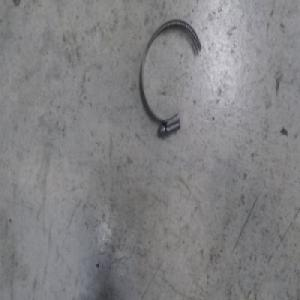AdjustableClamp: (139, 18, 201, 138)
